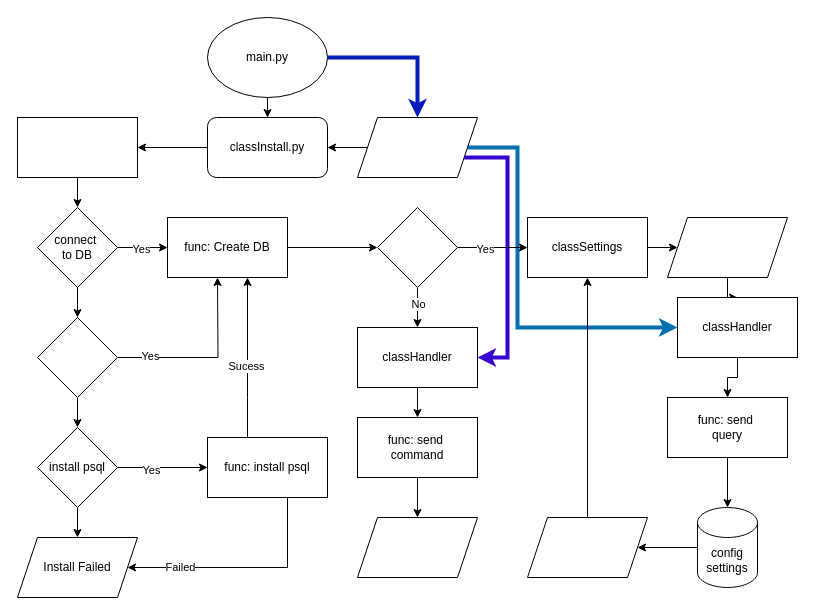
This 815x615 diagram has some shape labels left out. The shapes that lost their labels are listed below. From the top down, each one's centre as x and y in pixels, then its label:
At point 77,147: "func. check Install".
At point 417,147: "Input: connection configuration".
At point 417,247: "Do DB exists".
At point 727,247: "func: assign settings".
At point 77,357: "psql in Path".
At point 417,547: "create Database".
At point 587,547: "Output: Config settings".
